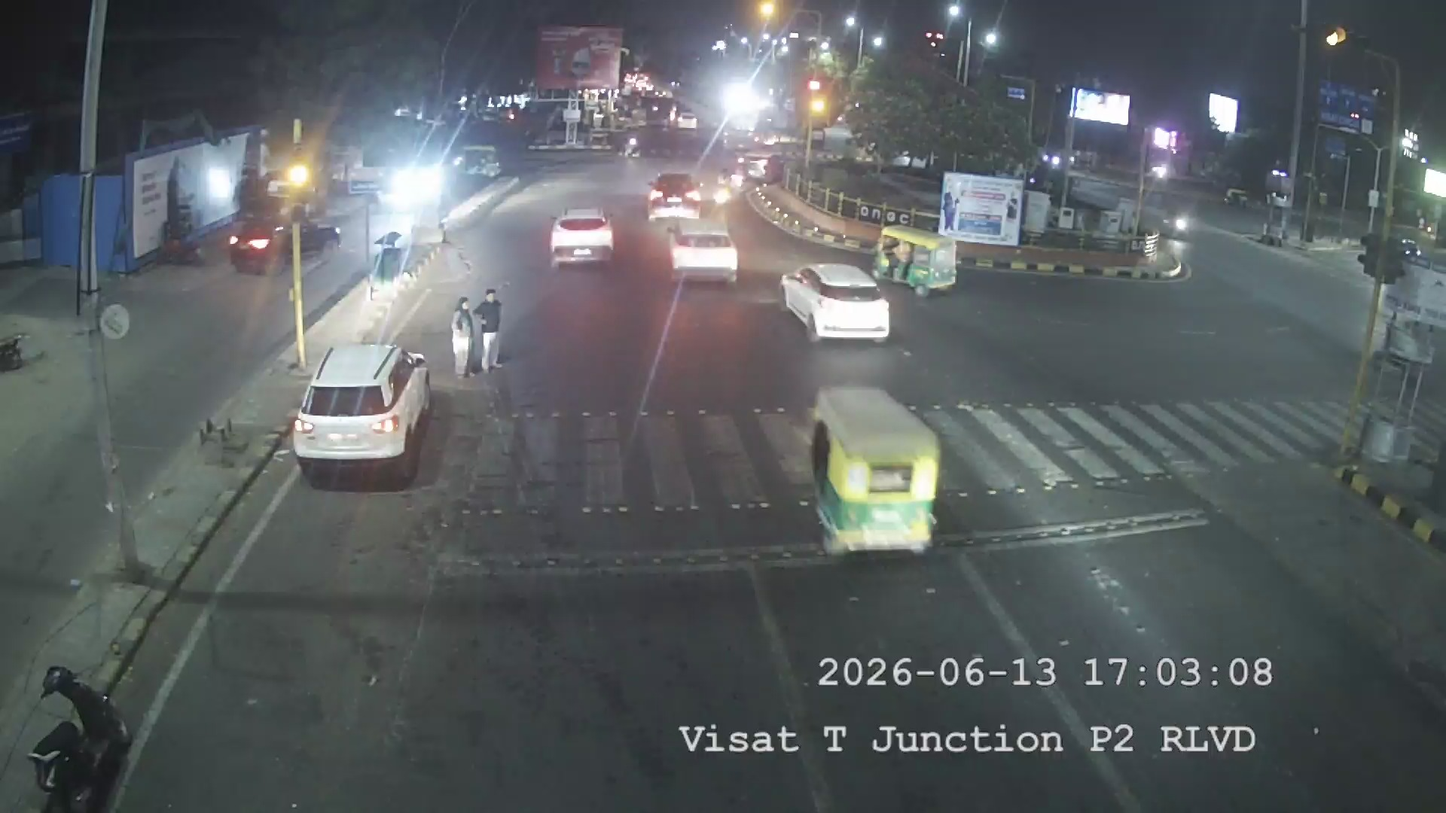auto_rickshaw: (804, 388, 947, 549), (873, 224, 962, 292), (226, 218, 278, 275), (0, 315, 30, 376)
car: (290, 338, 435, 469), (776, 258, 896, 342), (668, 220, 742, 284), (548, 202, 617, 267), (645, 165, 705, 218)
pedestrian: (446, 285, 511, 381)
two_wheeler: (21, 656, 140, 805), (447, 284, 510, 380)
